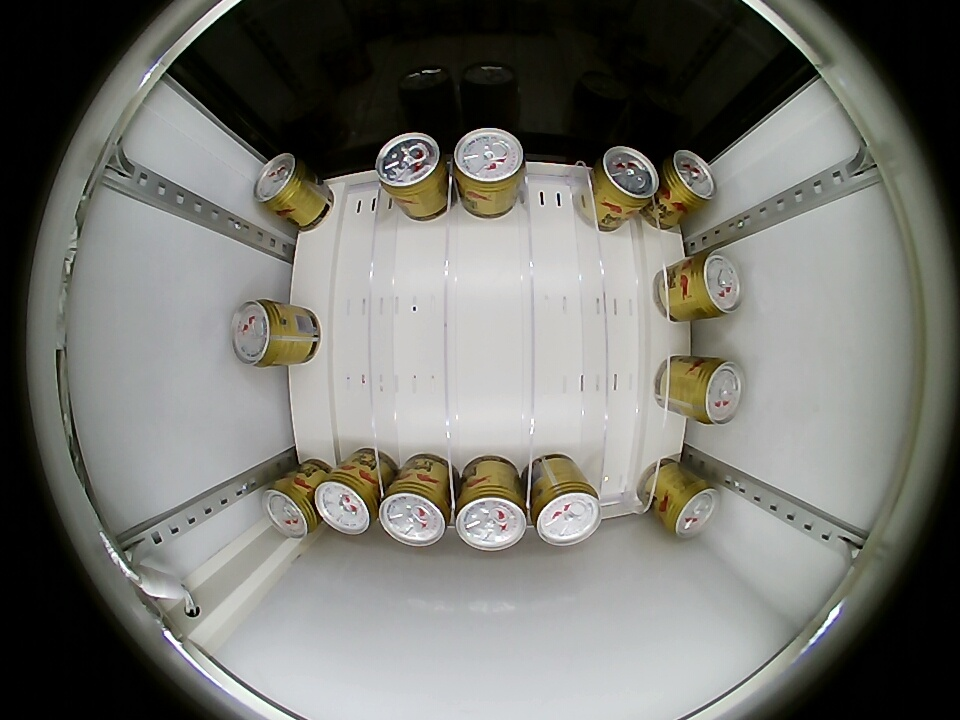hongniu2: (454, 482, 528, 552), (453, 129, 526, 199), (375, 133, 448, 203), (531, 476, 601, 547), (379, 480, 451, 548), (315, 468, 379, 536), (592, 146, 658, 211), (231, 298, 288, 367), (686, 249, 742, 318), (689, 357, 744, 426), (261, 476, 319, 539), (662, 477, 720, 538), (660, 150, 717, 211), (254, 153, 309, 214)
